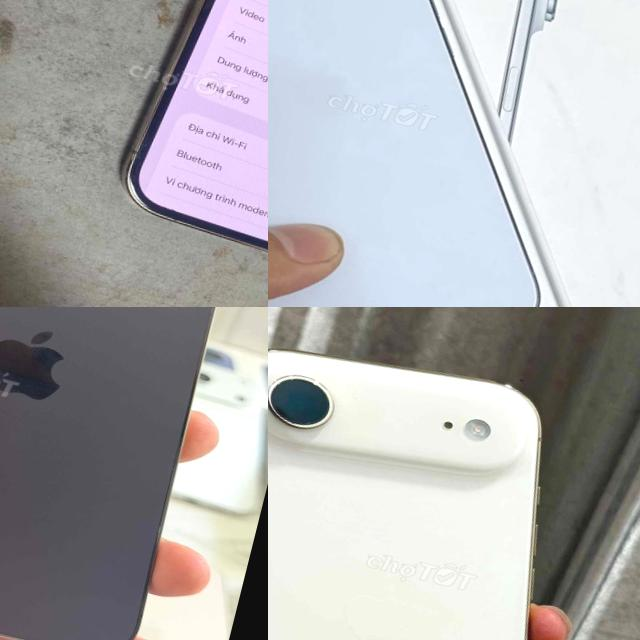gen_12_13: (91, 0, 268, 307)
gen_14: (0, 307, 268, 640)
gen_17: (268, 314, 639, 640), (268, 0, 635, 307)
